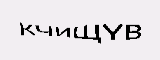В: (123, 21, 145, 44)
И: (55, 22, 71, 38)
К: (17, 20, 35, 38)
Ч: (35, 20, 54, 37)
Щ: (73, 20, 106, 45)
Ү: (102, 19, 122, 44)
